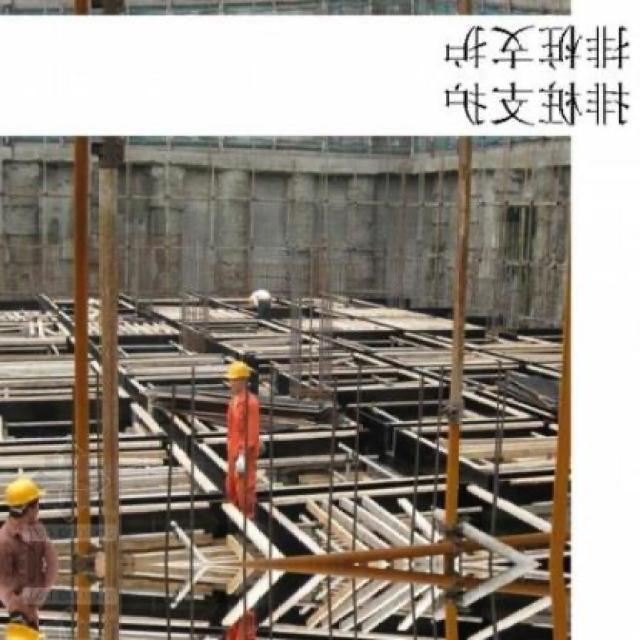con casco: (0, 477, 53, 549), (217, 348, 264, 412)
